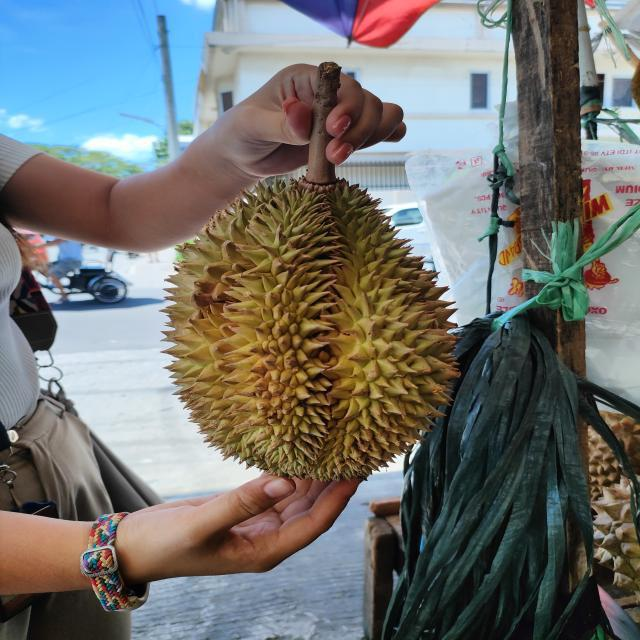mature: (162, 173, 464, 481)
